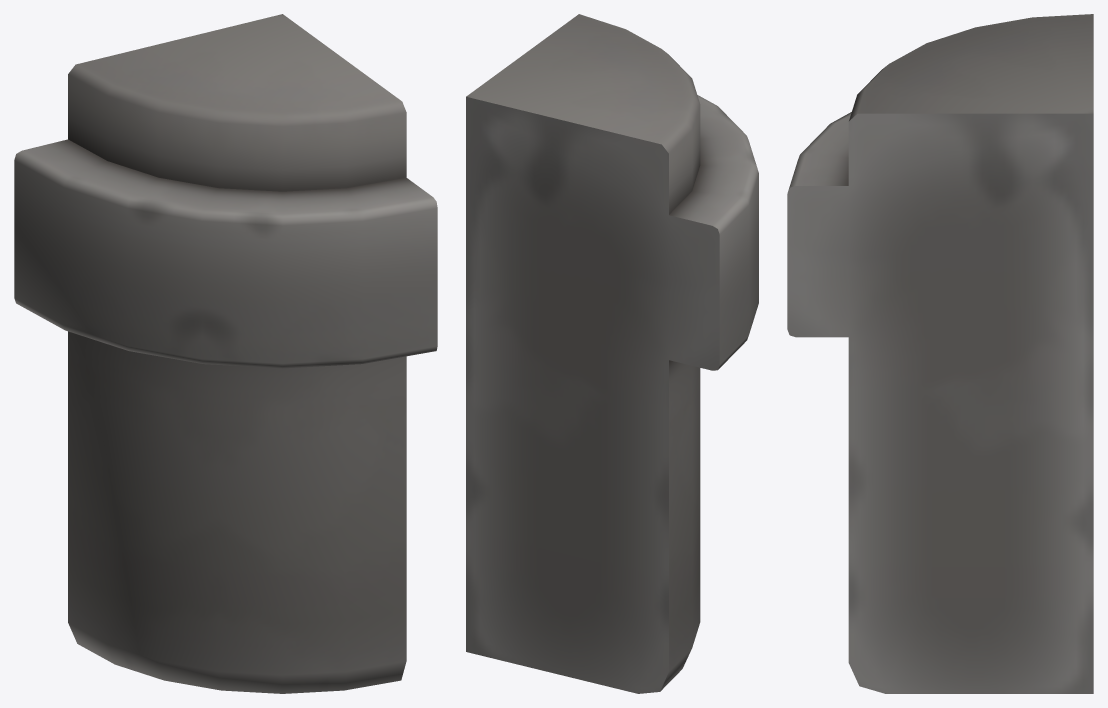
The model's file is PropTrimFacade02_3A.FBX.
The picture shows the model from 3 angles, left to right: view 1: azimuth 30°, elevation 25°; view 2: azimuth 150°, elevation 25°; view 3: azimuth 270°, elevation 25°; orthographic projection. The views are drawn at different scales.
Parts seen in each view (by area): view 1: PropTrimFacade02_3A; view 2: PropTrimFacade02_3A; view 3: PropTrimFacade02_3A.
Part boxes in pixels (box(x1,y1,x2,y2)): PropTrimFacade02_3A: box(14, 14, 437, 693); PropTrimFacade02_3A: box(466, 14, 758, 693); PropTrimFacade02_3A: box(787, 14, 1093, 693).
Size of what is drawn, in the model's own units: 0.3586 by 0.75 by 0.3586.
